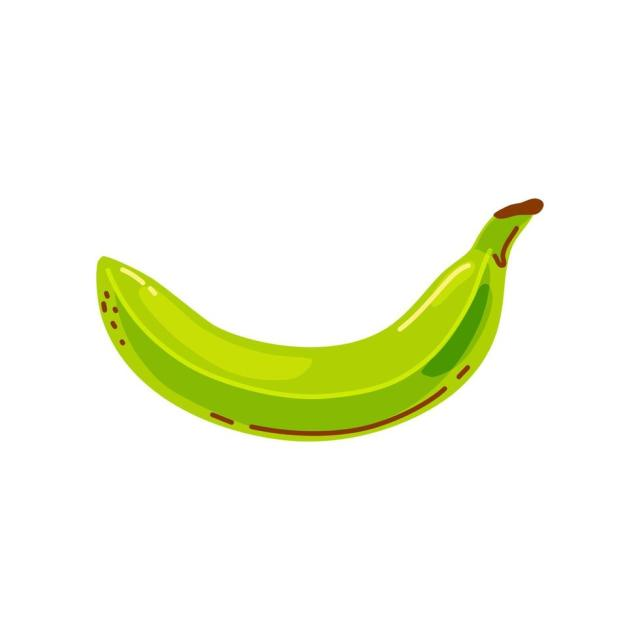non_orange: (89, 194, 548, 454)
